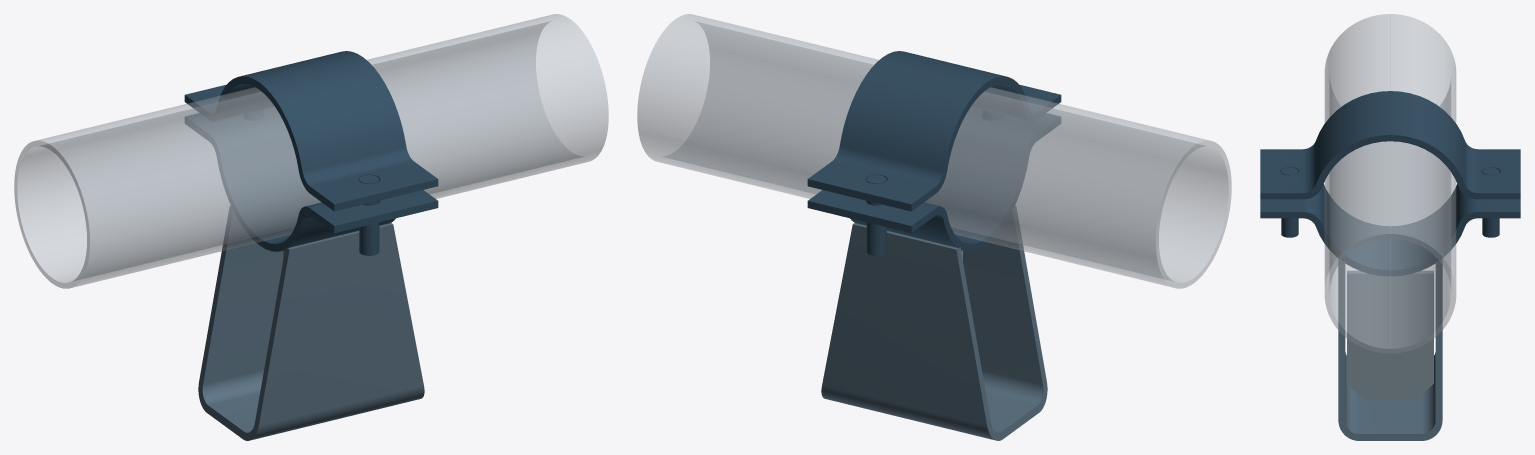
File: TS-625.000-04-opora-dn76.glb
3 views of the same model, side by side, from view 1: azimuth 30°, elevation 25°; view 2: azimuth 150°, elevation 25°; view 3: azimuth 270°, elevation 25° (orthographic). The views are drawn at different scales.
Parts seen in each view (by area): view 1: truba, skoba_0, poluhomut_verh_3, poluhomut_niz_2, bolt_5; view 2: truba, skoba_0, poluhomut_verh_3, poluhomut_niz_2, bolt_4; view 3: truba, poluhomut_verh_3, rebro_1, poluhomut_niz_2, skoba_0, bolt_4, bolt_5.
Boxes of the visible parts, bbox=[...] form: truba: bbox=[14, 14, 608, 288]; skoba_0: bbox=[198, 206, 424, 440]; poluhomut_verh_3: bbox=[184, 51, 438, 211]; poluhomut_niz_2: bbox=[185, 107, 438, 251]; bolt_5: bbox=[359, 175, 379, 255]; truba: bbox=[637, 14, 1231, 288]; skoba_0: bbox=[821, 206, 1047, 440]; poluhomut_verh_3: bbox=[807, 51, 1061, 211]; poluhomut_niz_2: bbox=[807, 107, 1060, 251]; bolt_4: bbox=[866, 175, 886, 255]; truba: bbox=[1324, 14, 1456, 353]; poluhomut_verh_3: bbox=[1260, 91, 1520, 199]; rebro_1: bbox=[1347, 270, 1433, 399]; poluhomut_niz_2: bbox=[1260, 184, 1520, 276]; skoba_0: bbox=[1338, 259, 1442, 440]; bolt_4: bbox=[1482, 167, 1499, 237]; bolt_5: bbox=[1281, 167, 1298, 237].
Bounding box in the file's own units: 300 × 185 × 150.
